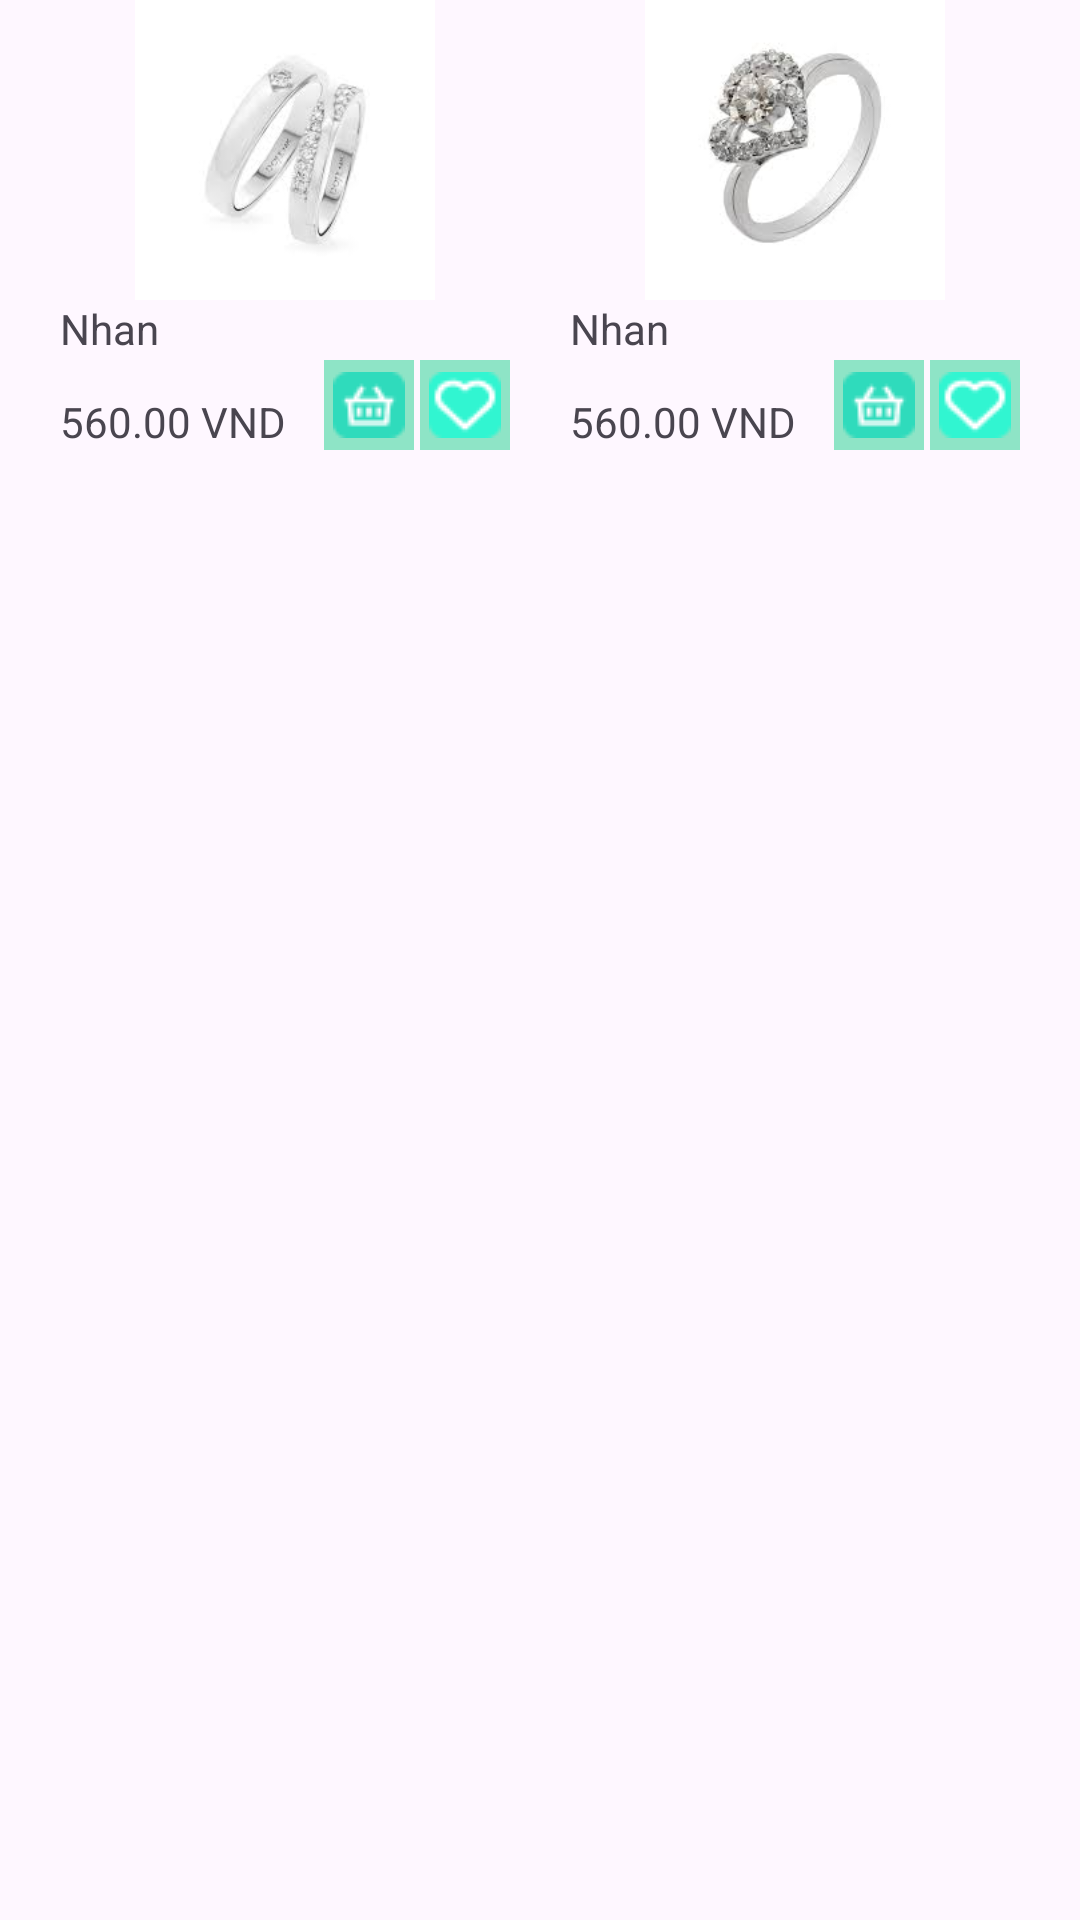

Where icons sit on this 1080w x 1920h app screen, as (x1, y1, x2, y2):
cart: (324, 360, 414, 450), (834, 360, 924, 450)
like: (420, 360, 510, 450), (930, 360, 1020, 450)
